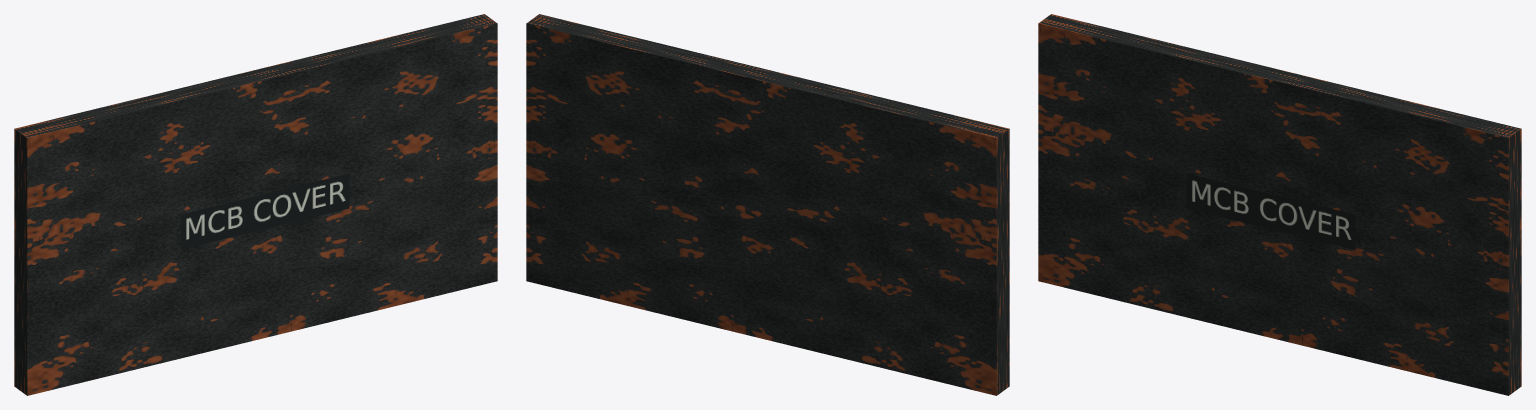
Rendered from Part_CoverPivot.obj.
3 views of the same model, side by side, from view 1: azimuth 30°, elevation 25°; view 2: azimuth 150°, elevation 25°; view 3: azimuth 330°, elevation 25° (orthographic).
Parts seen in each view (by area): view 1: BreakerCover, Label_CoverLabel; view 2: BreakerCover; view 3: BreakerCover, Label_CoverLabel.
Boxes of the visible parts, box(x1,y1,x2,y2) form: BreakerCover: box(14, 14, 497, 395); Label_CoverLabel: box(180, 173, 349, 249); BreakerCover: box(526, 14, 1009, 395); BreakerCover: box(1038, 14, 1521, 395); Label_CoverLabel: box(1186, 173, 1355, 249).
Bounding box in the file's own units: 0.42 × 0.22 × 0.024.
Materials: 2 (2 with a texture image).
